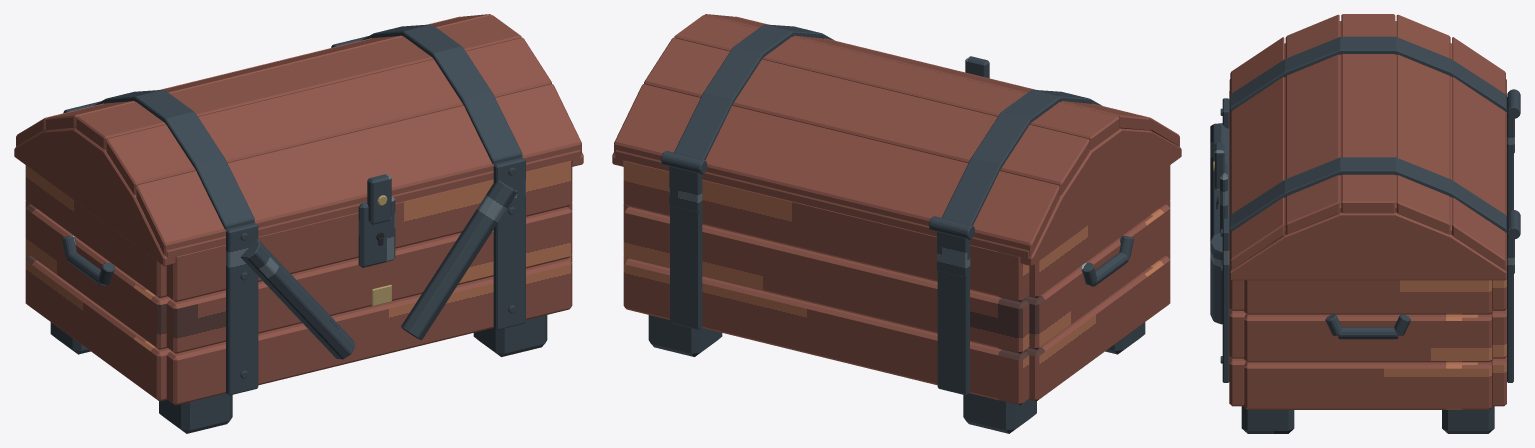
The model's file is chest-graphic.glb.
3 renders of one model, left to right at view 1: azimuth 30°, elevation 25°; view 2: azimuth 150°, elevation 25°; view 3: azimuth 270°, elevation 25°, orthographic. The views are drawn at different scales.
Parts seen in each view (by area): view 1: chest-graphic runtime mesh; view 2: chest-graphic runtime mesh; view 3: chest-graphic runtime mesh.
Part boxes in pixels (box(x1,y1,x2,y2)): chest-graphic runtime mesh: box(14, 14, 583, 433); chest-graphic runtime mesh: box(612, 14, 1181, 433); chest-graphic runtime mesh: box(1210, 14, 1520, 433).
Size of the model in its own units: 0.9205 by 0.5524 by 0.6196.
4 materials, 2 textured.
